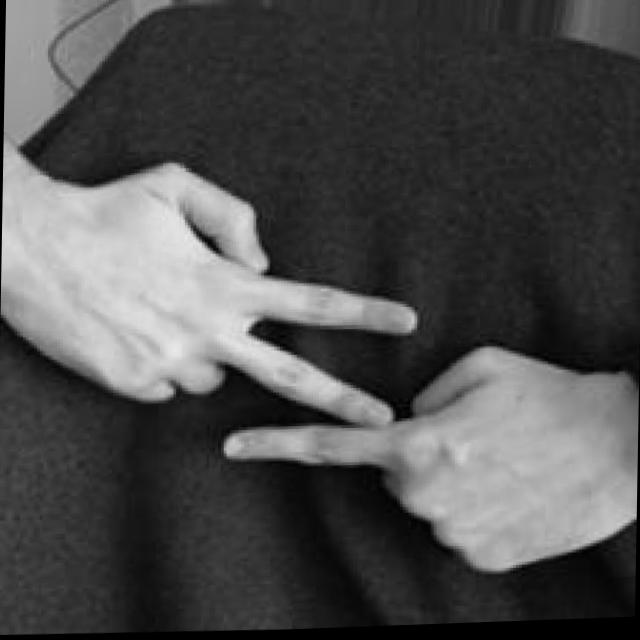Z: (0, 142, 640, 594)
